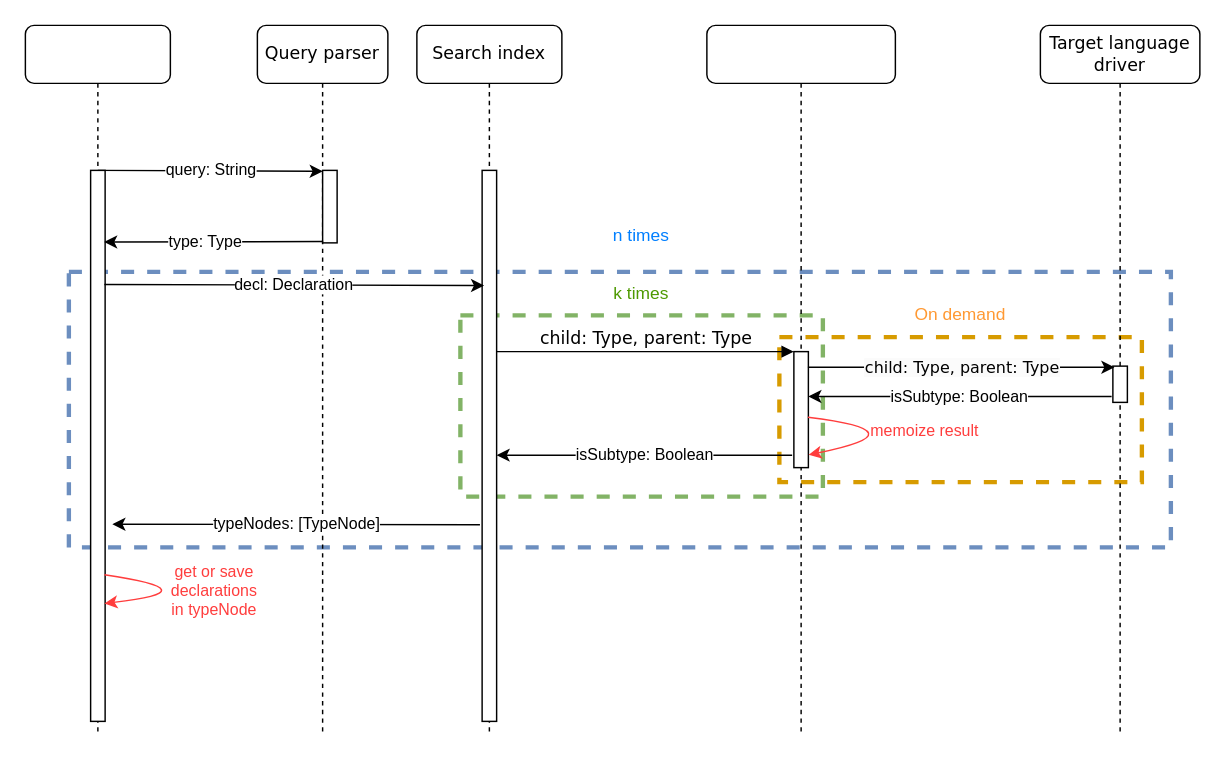
The diagram is 1225 pixels wide and 761 high, and some of its shapes have lost their labels. The box of each missing label's shape, as (x1, y1, x2, y2) in pixels:
Cache: (705, 24, 895, 736)
Tree: (24, 24, 170, 736)
